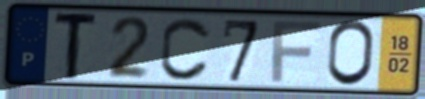2: (108, 14, 153, 80)
7: (221, 17, 262, 83)
C: (158, 15, 214, 83)
F: (269, 19, 323, 85)
O: (324, 18, 377, 90)
T: (52, 11, 101, 83)
